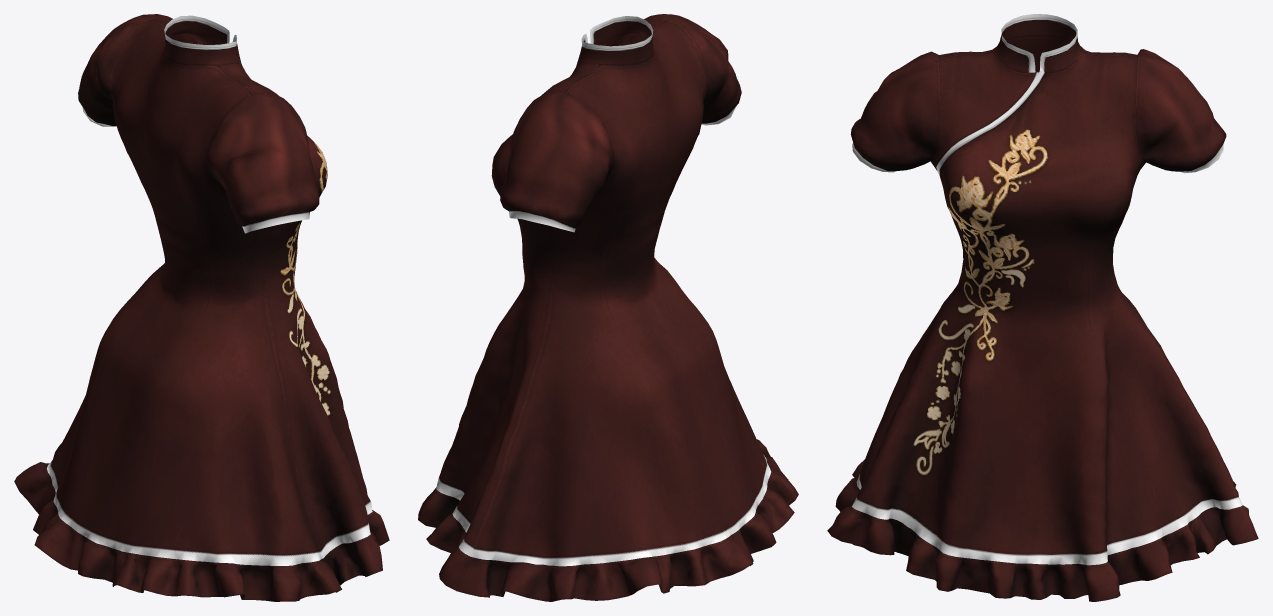
The model's file is Female_Asian_Lolita_Mini_Dress.glb.
3 views of the same model, side by side, from view 1: azimuth 30°, elevation 25°; view 2: azimuth 150°, elevation 25°; view 3: azimuth 270°, elevation 25° (orthographic). The views are drawn at different scales.
Visible parts, largest first — view 1: dress_Fabric_0; view 2: dress_Fabric_0; view 3: dress_Fabric_0.
Boxes of the visible parts, x1,y1,x2,y2 form: dress_Fabric_0: (14, 14, 389, 601); dress_Fabric_0: (418, 14, 798, 601); dress_Fabric_0: (827, 14, 1258, 601).
Size of the model in its own units: 0.5889 by 0.9181 by 0.7095.
1 material, 1 textured.
